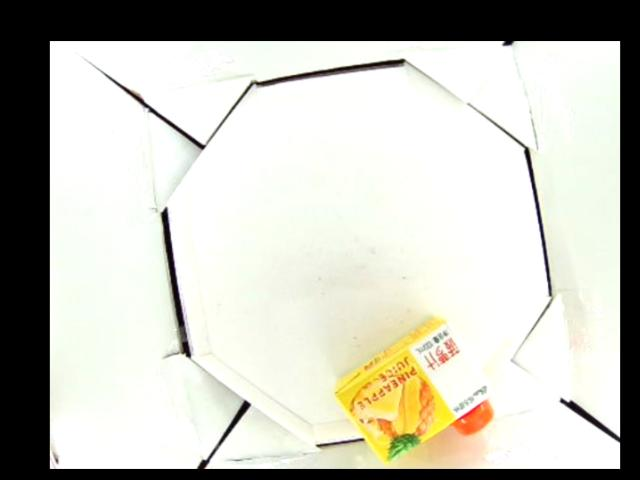Bottle: (332, 314, 496, 465)
